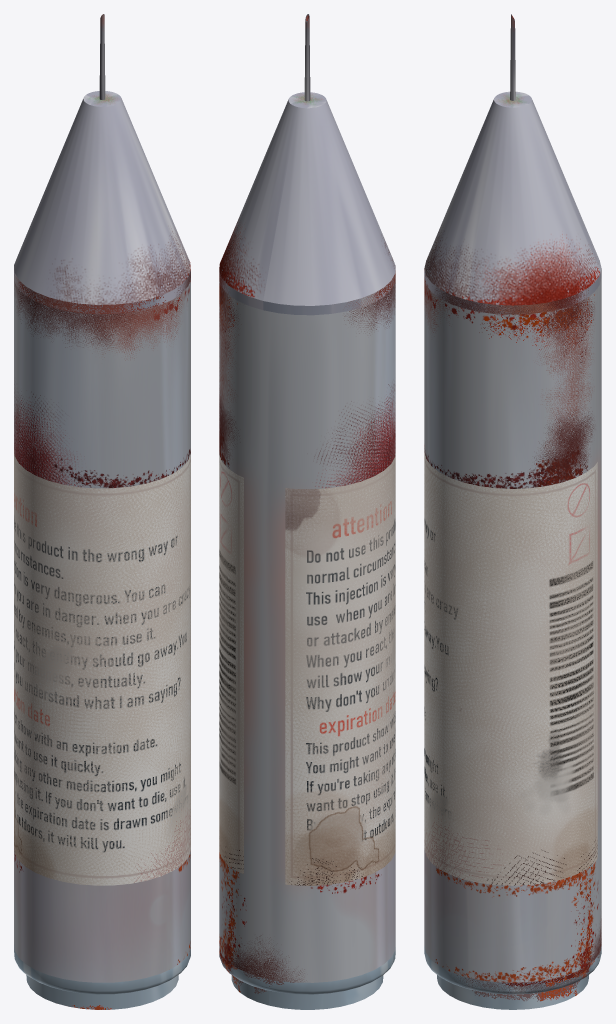
The model's file is Adrenaline.fbx.
The picture shows the model from 3 angles, left to right: view 1: azimuth 30°, elevation 25°; view 2: azimuth 150°, elevation 25°; view 3: azimuth 270°, elevation 25°; orthographic projection.
Visible parts, largest first — view 1: adrenaline; view 2: adrenaline; view 3: adrenaline.
Boxes of the visible parts, <box> form: adrenaline: <box>14,14,190,1009</box>; adrenaline: <box>219,14,395,1009</box>; adrenaline: <box>424,14,601,1009</box>.
Bounding box in the file's own units: 0.0251 × 0.1507 × 0.0251.
Materials: 1 (1 with a texture image).
